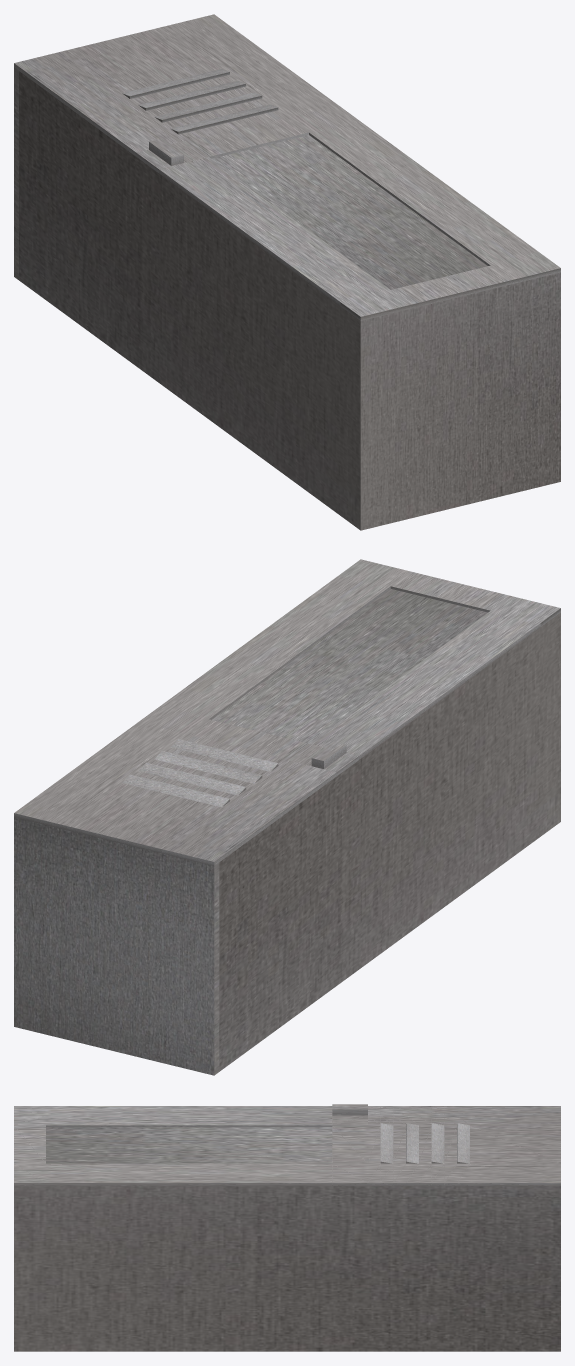
File: Locker 1.fbx
The picture shows the model from 3 angles, top to bottom: view 1: azimuth 30°, elevation 25°; view 2: azimuth 150°, elevation 25°; view 3: azimuth 270°, elevation 25°; orthographic projection. The views are drawn at different scales.
Parts seen in each view (by area): view 1: Cube, Cube.001; view 2: Cube, Cube.001; view 3: Cube, Cube.001.
Boxes of the visible parts, box(x1,y1,x2,y2) form: Cube: box(14, 67, 560, 530); Cube.001: box(14, 14, 560, 320); Cube: box(14, 612, 560, 1075); Cube.001: box(14, 559, 560, 865); Cube: box(14, 1186, 560, 1351); Cube.001: box(14, 1104, 560, 1186).
Size of the model in its own units: 100 by 106 by 300.
1 material, 1 textured.
